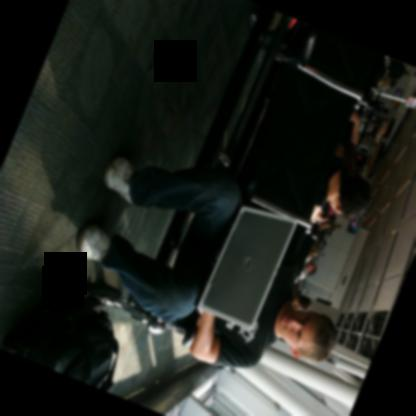backpack: (16, 288, 118, 392)
